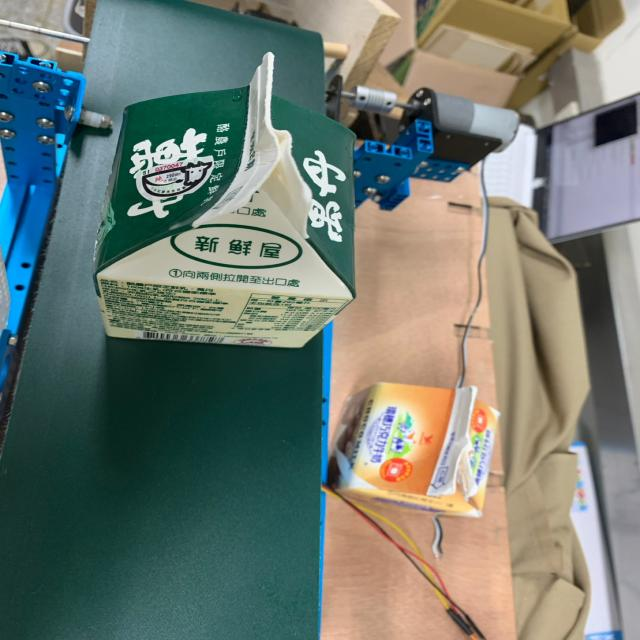non_white_jug: (74, 41, 377, 370), (324, 368, 517, 536)
